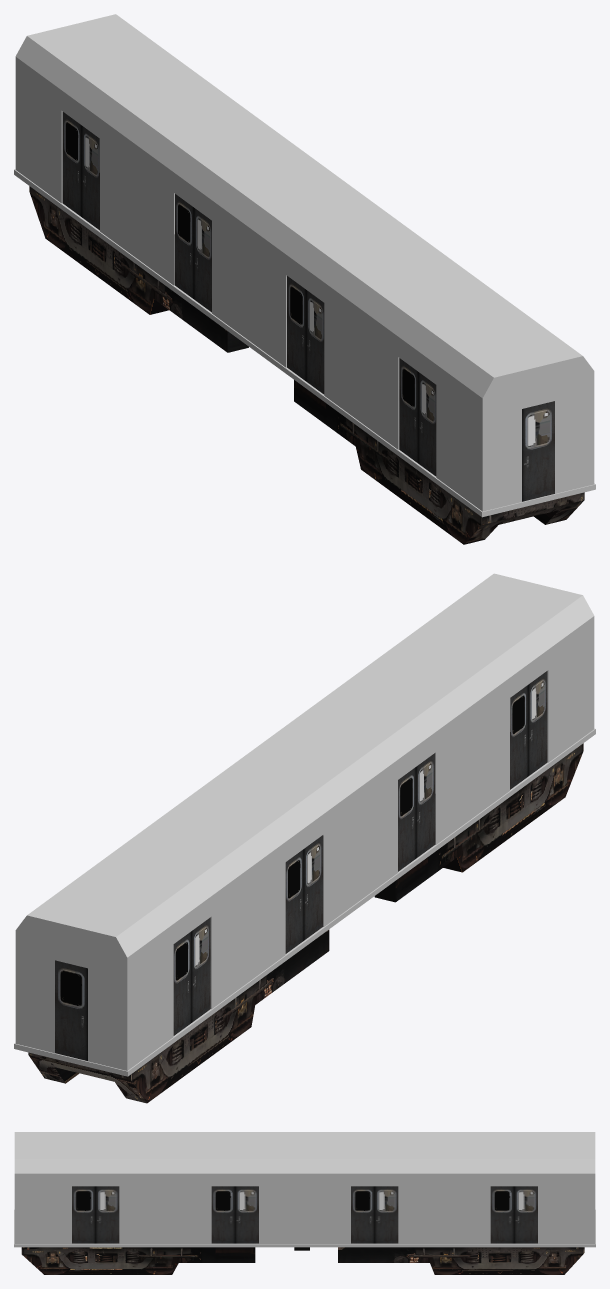
The model's file is uni_rusted_metro.glb.
3 renders of one model, top to bottom at view 1: azimuth 30°, elevation 25°; view 2: azimuth 150°, elevation 25°; view 3: azimuth 270°, elevation 25°, orthographic. The views are drawn at different scales.
Visible parts, largest first — view 1: UniMetro; view 2: UniMetro; view 3: UniMetro.
Part boxes in pixels (left/top/right/bottom): UniMetro: left=14, top=14, right=595, bottom=544; UniMetro: left=14, top=573, right=595, bottom=1103; UniMetro: left=14, top=1132, right=595, bottom=1274.
Bounding box in the file's own units: 3.06 × 4.7 × 21.77.
Materials: 4 (2 with a texture image).
